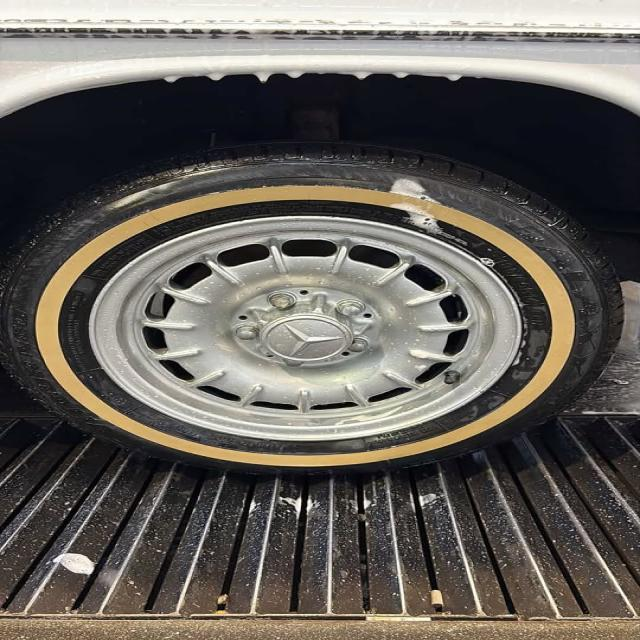jante: (87, 215, 523, 442)
parafuso: (339, 300, 364, 317), (270, 294, 294, 310), (237, 327, 256, 340), (349, 341, 368, 353), (286, 358, 304, 368)
roda: (0, 137, 625, 475)
